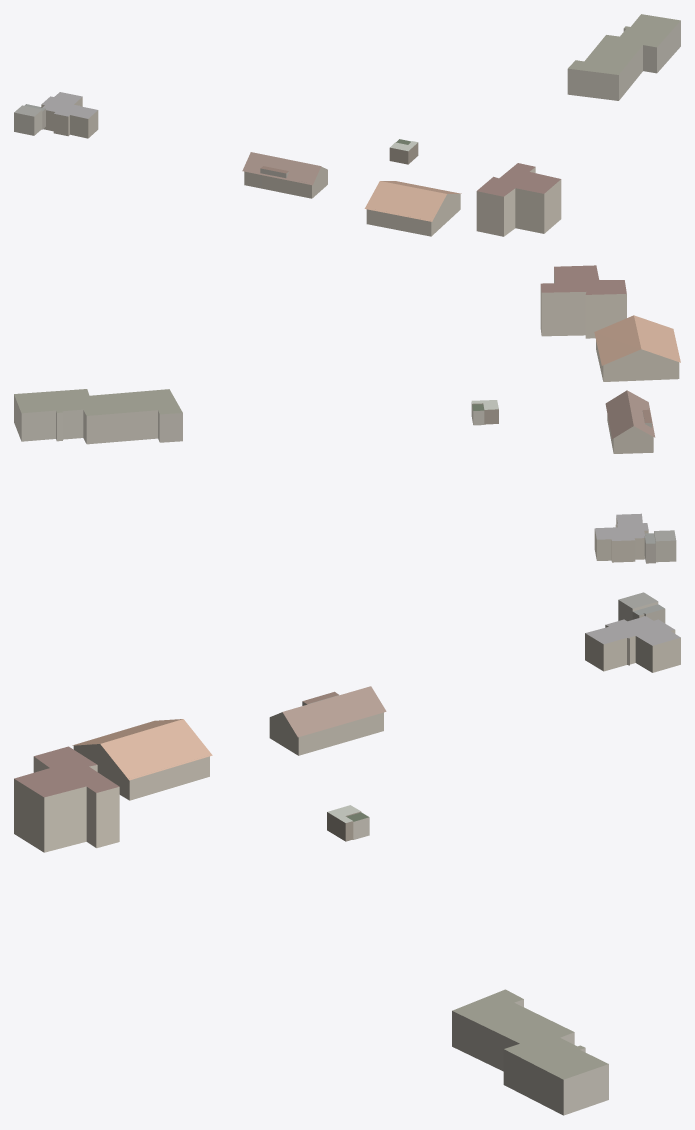
3 views of the same model, one above another, from view 1: azimuth 30°, elevation 25°; view 2: azimuth 150°, elevation 25°; view 3: azimuth 270°, elevation 25° (orthographic). The views are drawn at different scales.
Parts seen in each view (by area): view 1: tuile; view 2: tuile; view 3: tuile.
Part boxes in pixels (<box>): tuile: <box>14,14,680,236</box>; tuile: <box>14,265,680,563</box>; tuile: <box>14,592,680,1115</box>.
Bounding box in the file's own units: 175 × 21.06 × 115.
